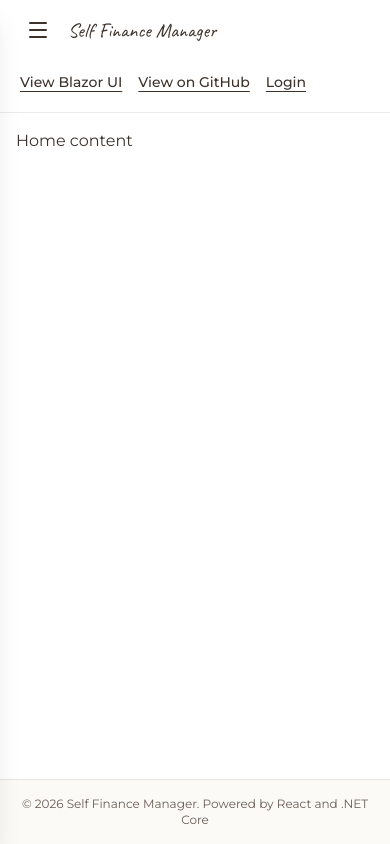
Test: MainLayout mobile navigation › opens the drawer with every navigation item and the active page highlighted
The width and height of the screenshot is (390, 844).
Click the button named "Open navigation menu": point(38, 30) [16,8,60,52]
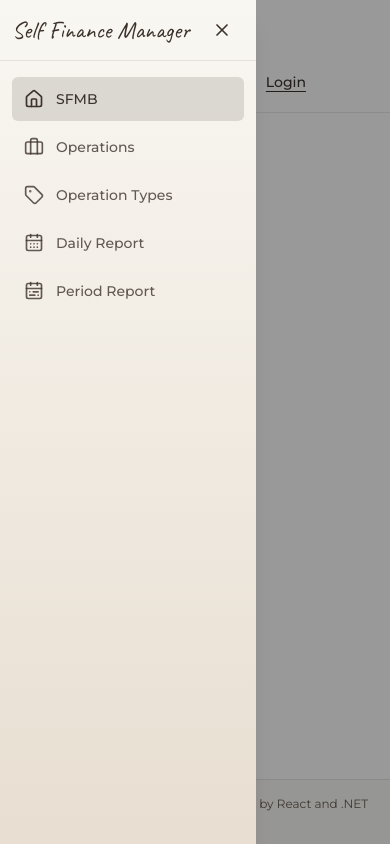
Now the button named "Open navigation menu" is expanded, box [16,8,60,52]
